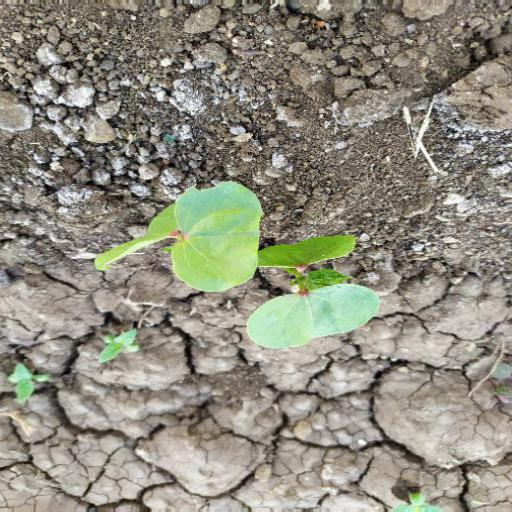weed: (99, 146, 406, 396)
